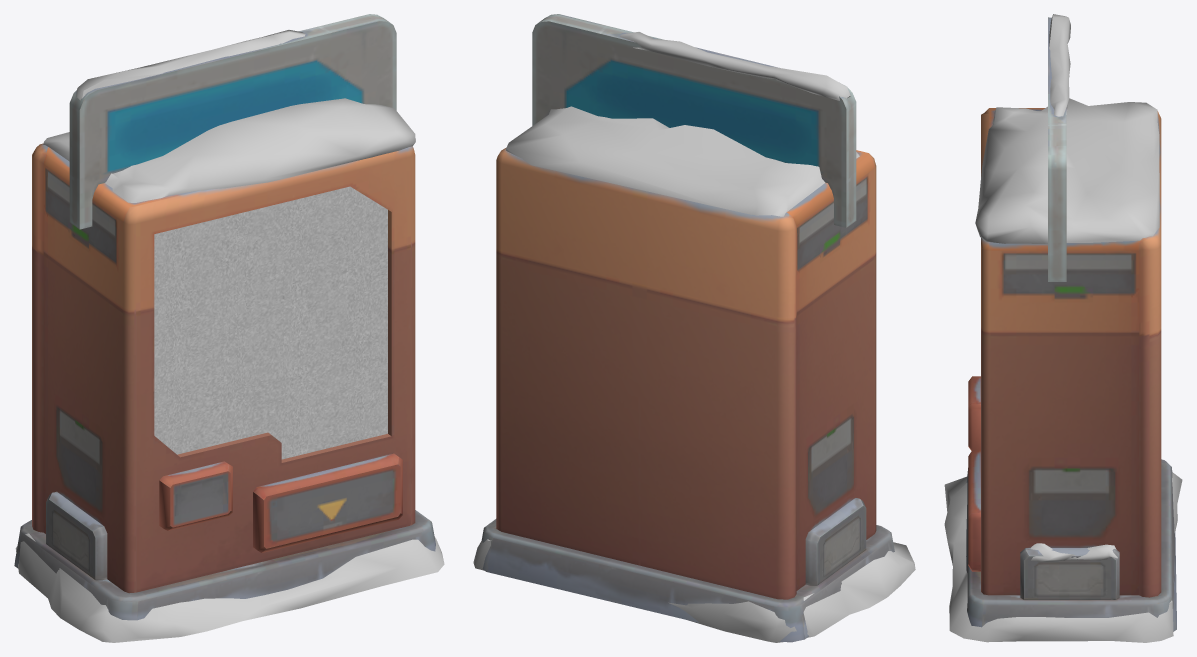
Rendered from pref_sm_city_vending02_snow_lv3.fbx.
The picture shows the model from 3 angles, left to right: view 1: azimuth 30°, elevation 25°; view 2: azimuth 150°, elevation 25°; view 3: azimuth 270°, elevation 25°; orthographic projection. The views are drawn at different scales.
Parts seen in each view (by area): view 1: sm_city_vending02_lv3, sm_city_vending02b_snow_lv3, sm_city_vending02c_snow_lv3; view 2: sm_city_vending02_lv3, sm_city_vending02c_snow_lv3; view 3: sm_city_vending02_lv3, sm_city_vending02c_snow_lv3.
Part boxes in pixels (x1=…): sm_city_vending02_lv3: x1=14, y1=14, x2=435, y2=620; sm_city_vending02b_snow_lv3: x1=154, y1=186, x2=387, y2=459; sm_city_vending02c_snow_lv3: x1=15, y1=30, x2=444, y2=642; sm_city_vending02_lv3: x1=481, y1=14, x2=894, y2=642; sm_city_vending02c_snow_lv3: x1=473, y1=32, x2=915, y2=642; sm_city_vending02_lv3: x1=966, y1=17, x2=1176, y2=631; sm_city_vending02c_snow_lv3: x1=944, y1=14, x2=1182, y2=642.
Bounding box in the file's own units: 2.19 × 3.09 × 1.36.
